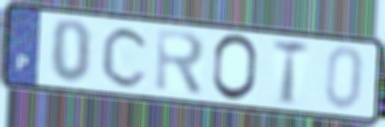0: (47, 16, 94, 87), (321, 44, 367, 114)
C: (99, 24, 153, 90)
O: (210, 32, 260, 104)
R: (153, 25, 209, 100)
T: (271, 37, 312, 109)
